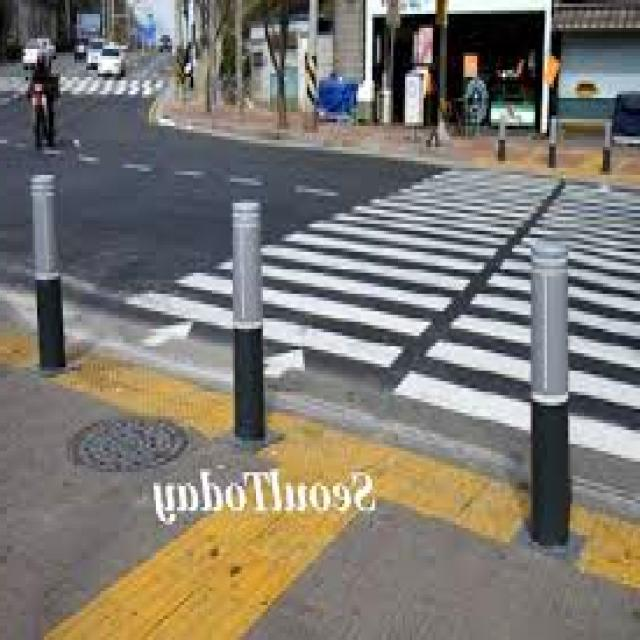bollard: (526, 231, 572, 553), (212, 187, 266, 457), (22, 160, 70, 386)
